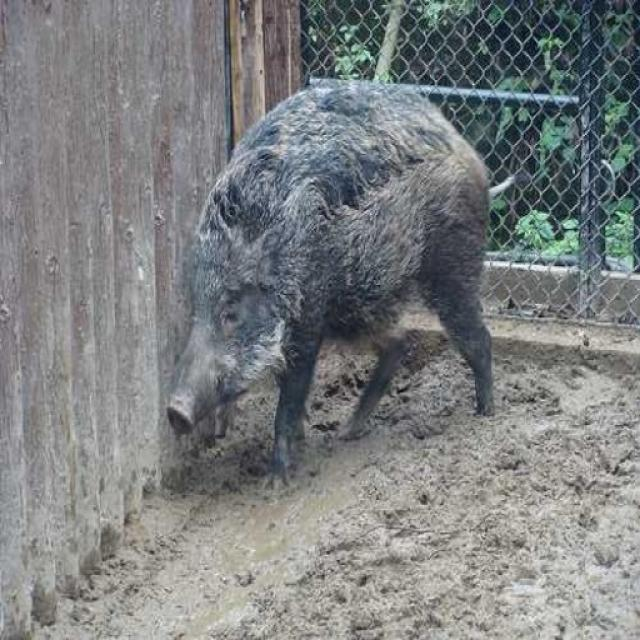pig: (160, 46, 509, 474)
